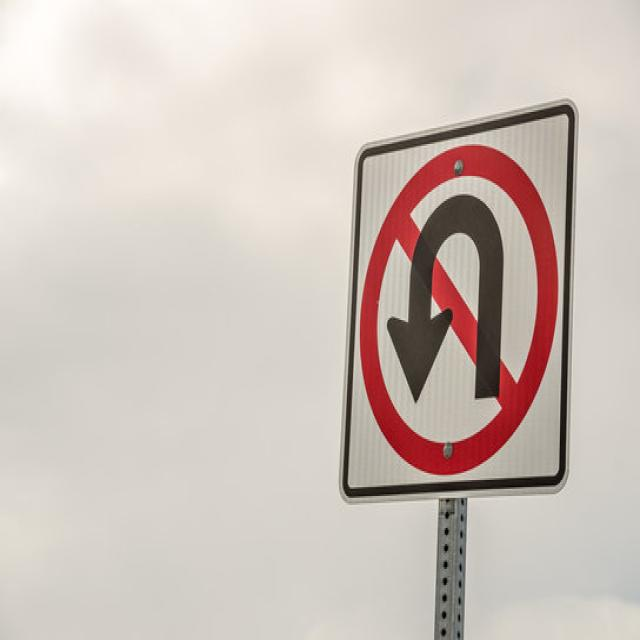Demi-Tour-Interdit: (354, 152, 557, 468)
